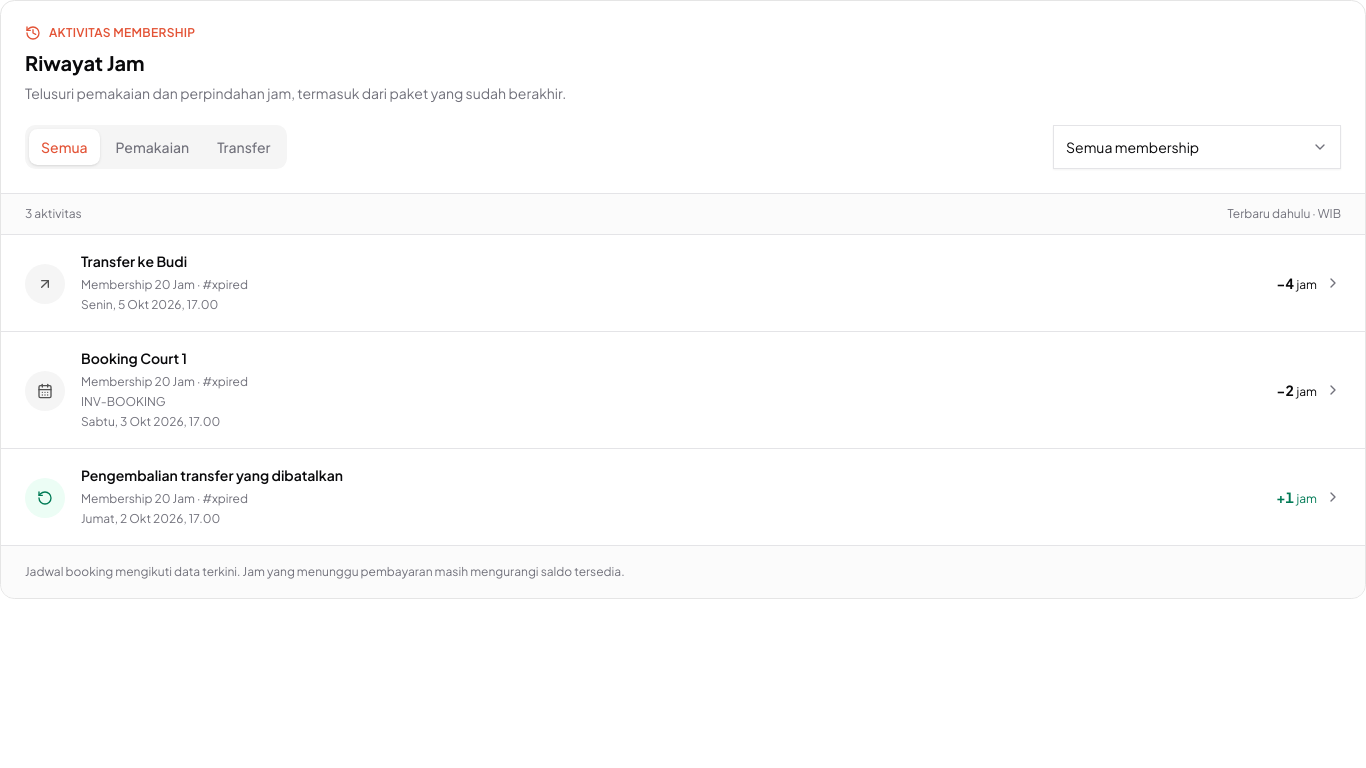
Scenario: membership hour history › opens the exact transfer reference, recipient, package and amount in an accessible dialog
Click the button "Transfer ke Budi": point(45, 284) [1,235,1365,331]
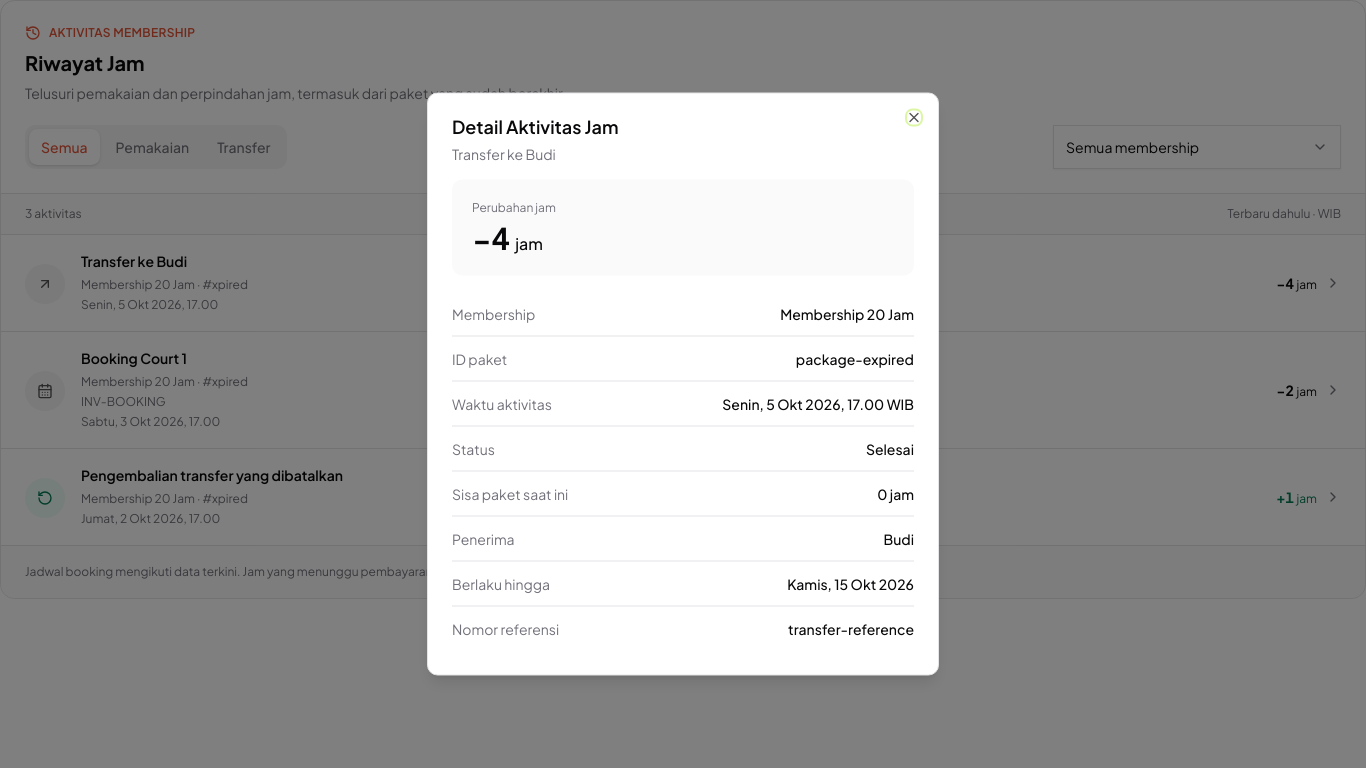
Check: the text "Budi" is shown, box [884,530,914,548]
Check: the text "transfer-reference" is shown, box [788,620,914,638]
Check: the text "package-expired" is shown, box [796,350,914,368]
